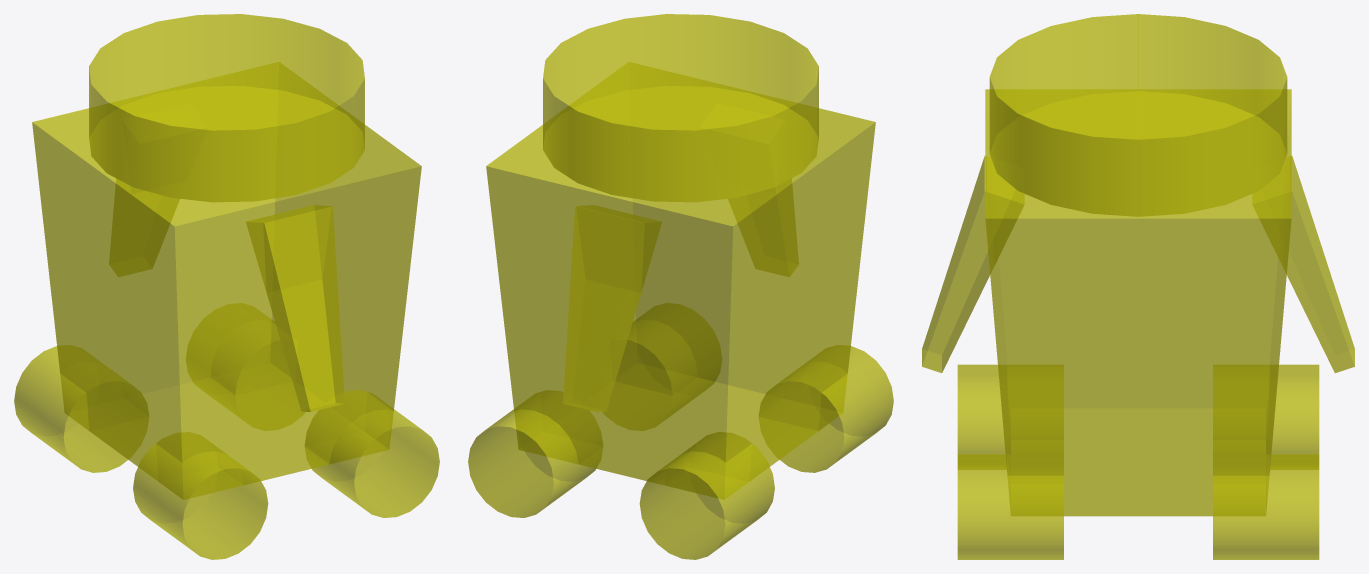
Rendered from robot_c_e.dae.
The picture shows the model from 3 angles, left to right: view 1: azimuth 30°, elevation 25°; view 2: azimuth 150°, elevation 25°; view 3: azimuth 270°, elevation 25°; orthographic projection. The views are drawn at different scales.
Visible parts, largest first — view 1: robot_combine_e; view 2: robot_combine_e; view 3: robot_combine_e.
Part boxes in pixels (x1,y1,x2,y2): robot_combine_e: (14, 14, 439, 559); robot_combine_e: (468, 14, 893, 559); robot_combine_e: (922, 14, 1354, 559).
Bounding box in the file's own units: 0.075 × 0.1125 × 0.1018.
